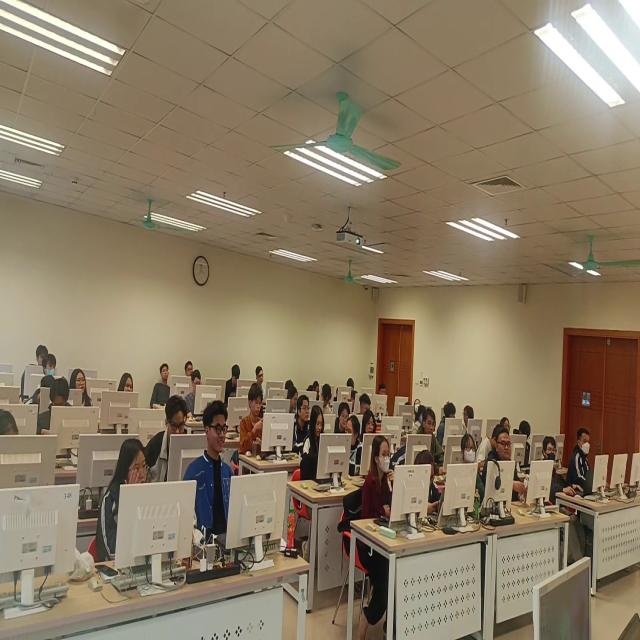raise_head: (183, 392, 247, 556), (99, 433, 150, 581), (538, 427, 569, 515), (483, 426, 515, 511), (457, 431, 484, 507), (569, 422, 594, 497), (412, 409, 440, 475), (112, 365, 139, 419), (151, 360, 174, 414), (291, 392, 313, 448), (69, 364, 93, 414), (358, 406, 382, 446), (36, 355, 61, 385), (495, 413, 516, 445), (36, 341, 51, 370), (182, 360, 197, 380), (414, 398, 424, 417)
using_computer: (362, 437, 397, 564), (301, 403, 332, 501), (37, 376, 76, 451), (236, 382, 271, 456), (1, 394, 24, 500), (514, 416, 536, 476), (183, 369, 206, 418), (224, 360, 246, 404), (254, 364, 278, 396), (314, 384, 334, 421), (377, 385, 395, 419), (336, 400, 350, 440), (357, 390, 376, 416), (308, 372, 323, 401), (286, 386, 300, 415), (348, 389, 359, 414), (348, 374, 358, 396)
using_phone: (410, 440, 446, 536)
